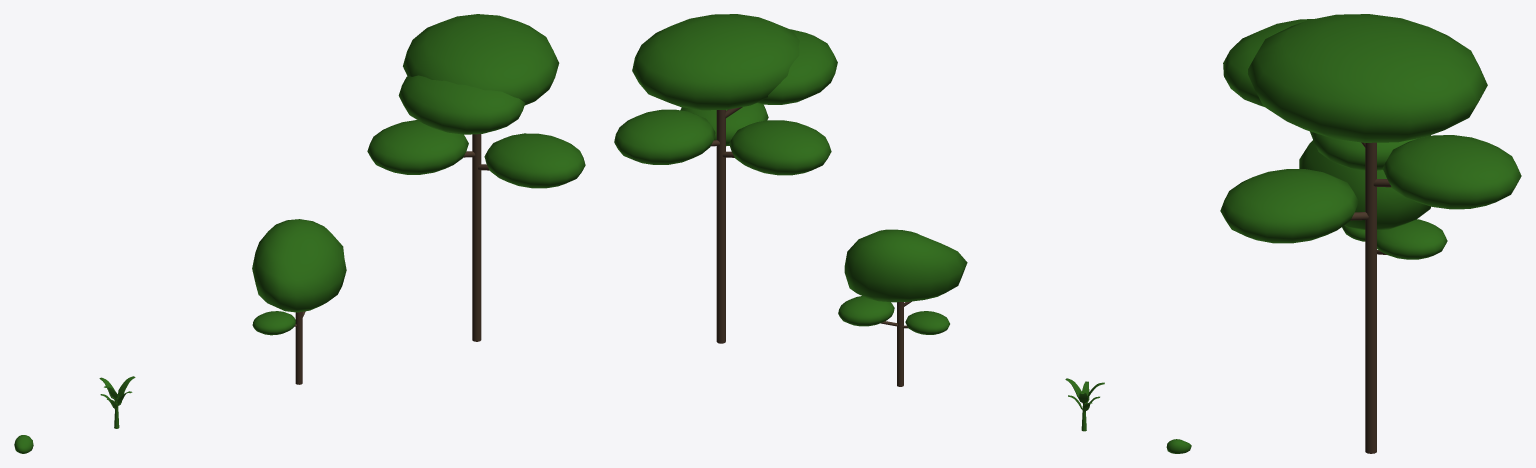
File: Emergent Tree.fbx
3 views of the same model, side by side, from view 1: azimuth 30°, elevation 25°; view 2: azimuth 150°, elevation 25°; view 3: azimuth 270°, elevation 25° (orthographic). The views are drawn at different scales.
Parts seen in each view (by area): view 1: Emergent_Leaves, Canopy_Leaves, Emergent_Trunk, Canopy_Trunk; view 2: Emergent_Leaves, Canopy_Leaves, Emergent_Trunk, Canopy_Trunk, Understory_Leaves; view 3: Emergent_Leaves, Canopy_Leaves, Emergent_Trunk.
Boxes of the visible parts, bbox=[...] form: Emergent_Leaves: bbox=[367, 14, 585, 188]; Canopy_Leaves: bbox=[252, 219, 346, 335]; Emergent_Trunk: bbox=[463, 134, 489, 341]; Canopy_Trunk: bbox=[294, 311, 305, 384]; Emergent_Leaves: bbox=[614, 14, 837, 175]; Canopy_Leaves: bbox=[838, 229, 967, 334]; Emergent_Trunk: bbox=[711, 107, 742, 343]; Canopy_Trunk: bbox=[880, 301, 911, 386]; Understory_Leaves: bbox=[1065, 378, 1104, 431]; Emergent_Leaves: bbox=[1220, 14, 1521, 243]; Canopy_Leaves: bbox=[1299, 140, 1447, 259]; Emergent_Trunk: bbox=[1350, 142, 1391, 453].
Size of the model in its own units: 4040 by 2227 by 1449.
